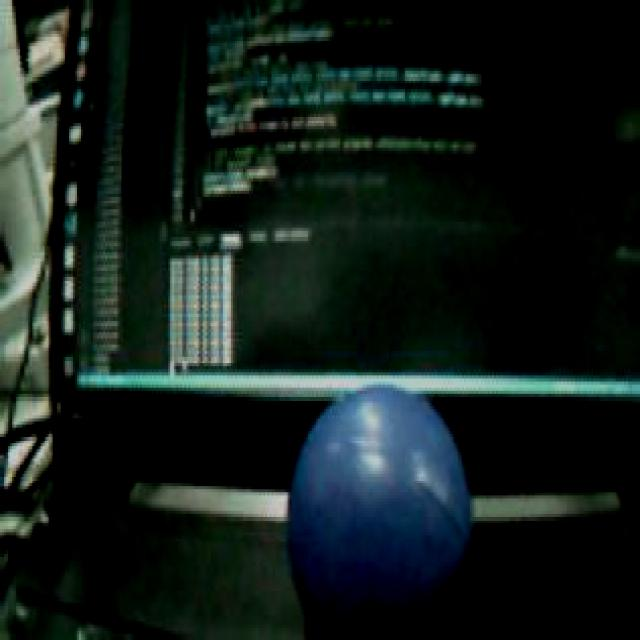BallPurple: (285, 381, 471, 640)
